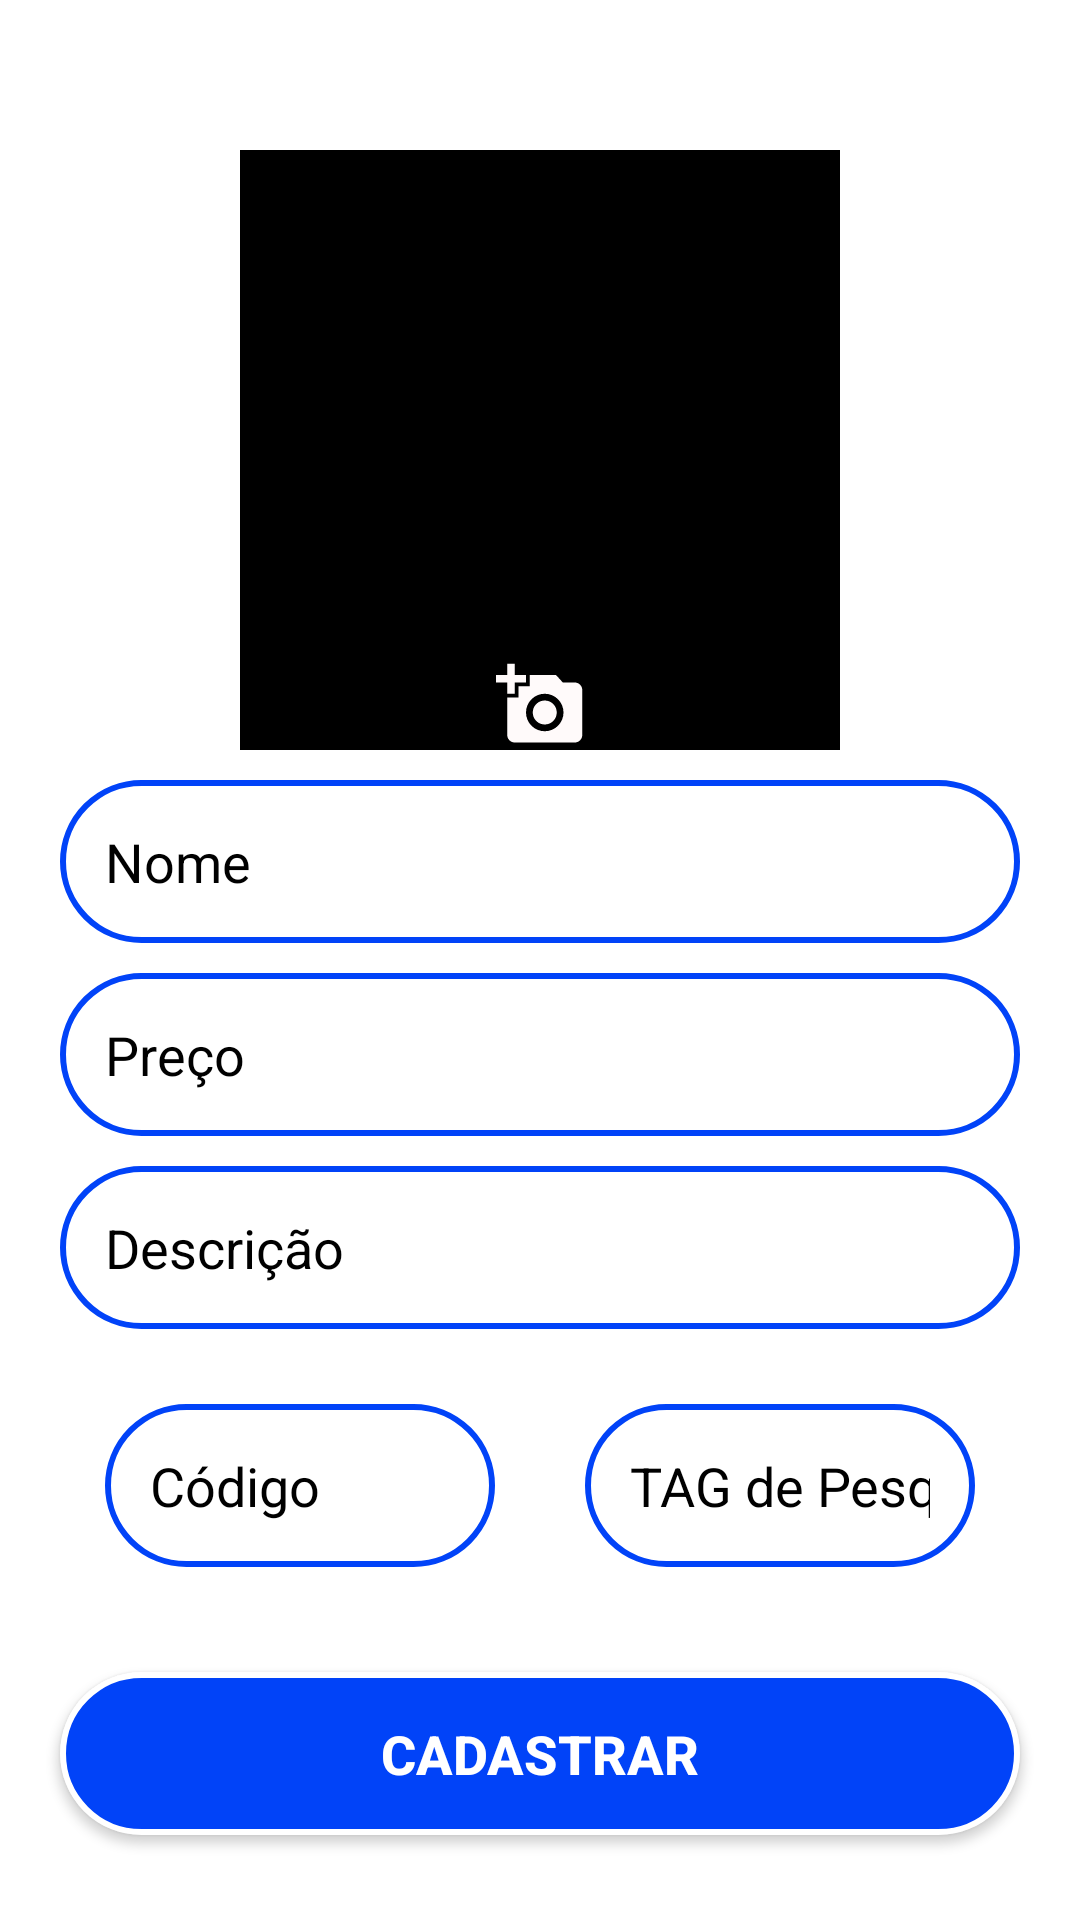

Where icons sit on this 1080px×1920px app screen, as (x1, y1, x2, y2):
adcfoto: (496, 663, 583, 743)
